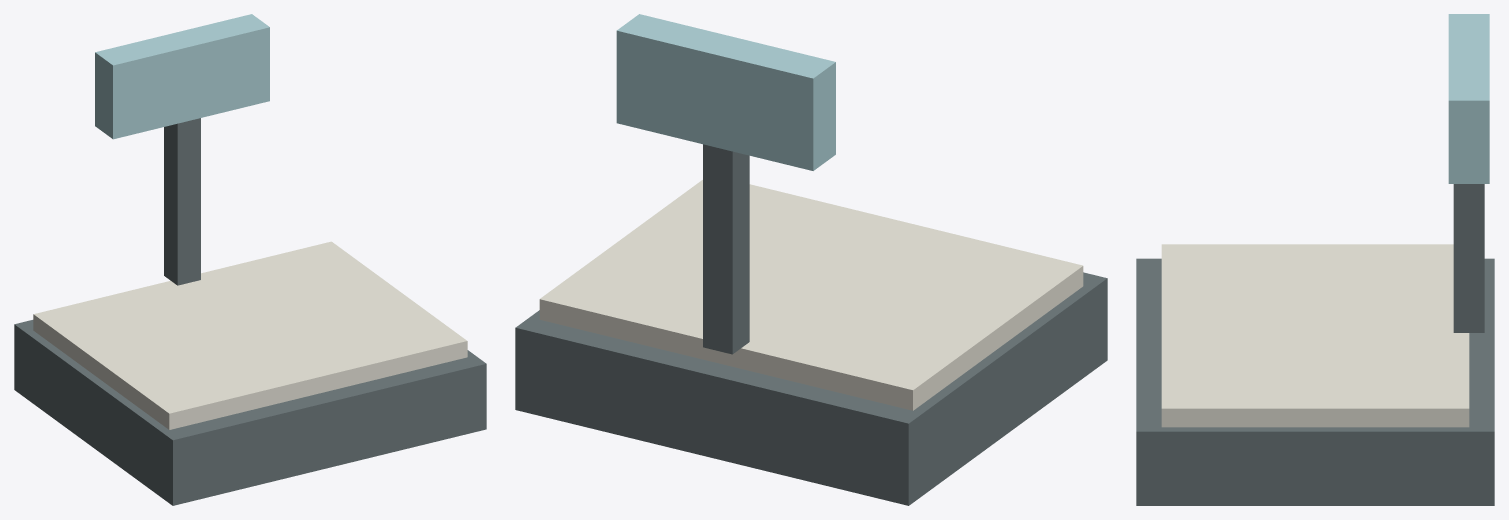
The model's file is supermarket-operations-checkout-scale-3ba0b761__26785.glb.
The picture shows the model from 3 angles, left to right: view 1: azimuth 30°, elevation 25°; view 2: azimuth 150°, elevation 25°; view 3: azimuth 270°, elevation 25°; orthographic projection. The views are drawn at different scales.
Parts seen in each view (by area): view 1: checkout-scale; view 2: checkout-scale; view 3: checkout-scale.
Part boxes in pixels (left/top/right/bottom): checkout-scale: left=14, top=14, right=486, bottom=505; checkout-scale: left=515, top=14, right=1107, bottom=505; checkout-scale: left=1136, top=14, right=1494, bottom=505.
Size of the model in its own units: 0.4 by 0.39 by 0.35.
